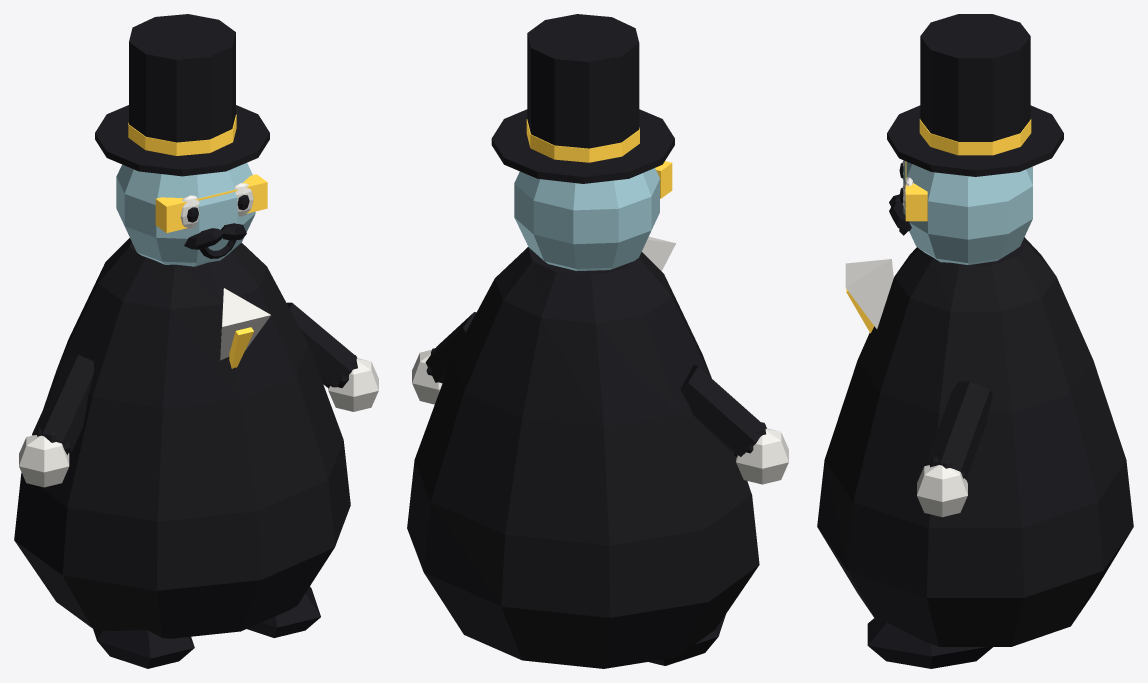
File: npc_director.glb
The picture shows the model from 3 angles, left to right: view 1: azimuth 30°, elevation 25°; view 2: azimuth 150°, elevation 25°; view 3: azimuth 270°, elevation 25°; orthographic projection. The views are drawn at different scales.
Visible parts, largest first — view 1: body_tailcoat_black, cap_tailcoat_black, head_skin_celeste, arms_tailcoat_black, legs_black, arms_white, body_white, face_gold, cap_gold, face_black, face_white, body_gold; view 2: body_tailcoat_black, cap_tailcoat_black, head_skin_celeste, arms_tailcoat_black, arms_white, cap_gold, legs_black, body_white; view 3: body_tailcoat_black, cap_tailcoat_black, head_skin_celeste, arms_tailcoat_black, legs_black, body_white, arms_white, cap_gold, face_gold, face_black.
Boxes of the visible parts, x1=… form: body_tailcoat_black: x1=14, y1=238, x2=350, y2=638; cap_tailcoat_black: x1=95, y1=14, x2=269, y2=176; head_skin_celeste: x1=116, y1=163, x2=255, y2=266; arms_tailcoat_black: x1=32, y1=302, x2=357, y2=454; legs_black: x1=93, y1=586, x2=320, y2=668; arms_white: x1=19, y1=358, x2=378, y2=487; body_white: x1=220, y1=288, x2=270, y2=360; face_gold: x1=155, y1=174, x2=267, y2=233; cap_gold: x1=128, y1=114, x2=236, y2=155; face_black: x1=184, y1=195, x2=249, y2=258; face_white: x1=180, y1=183, x2=253, y2=229; body_gold: x1=229, y1=327, x2=253, y2=368; body_tailcoat_black: x1=407, y1=247, x2=759, y2=668; cap_tailcoat_black: x1=491, y1=14, x2=674, y2=183; head_skin_celeste: x1=514, y1=168, x2=659, y2=270; arms_tailcoat_black: x1=425, y1=312, x2=766, y2=457; arms_white: x1=412, y1=350, x2=788, y2=484; cap_gold: x1=526, y1=119, x2=639, y2=162; legs_black: x1=649, y1=614, x2=725, y2=665; body_white: x1=642, y1=236, x2=675, y2=271; body_tailcoat_black: x1=817, y1=237, x2=1133, y2=646; cap_tailcoat_black: x1=887, y1=14, x2=1063, y2=176; head_skin_celeste: x1=903, y1=161, x2=1032, y2=264; arms_tailcoat_black: x1=926, y1=381, x2=992, y2=479; legs_black: x1=867, y1=618, x2=992, y2=668; body_white: x1=845, y1=259, x2=893, y2=328; arms_white: x1=917, y1=465, x2=967, y2=517; cap_gold: x1=919, y1=119, x2=1031, y2=155; face_gold: x1=905, y1=161, x2=927, y2=221; face_black: x1=889, y1=163, x2=911, y2=235.
Size of the model in its own units: 1.14 by 1.78 by 0.86.
